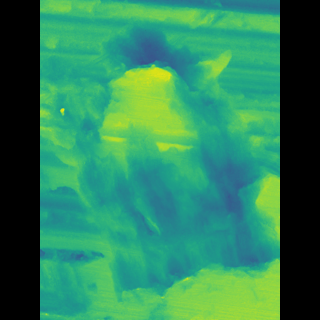Loch: (73, 25, 240, 303)
